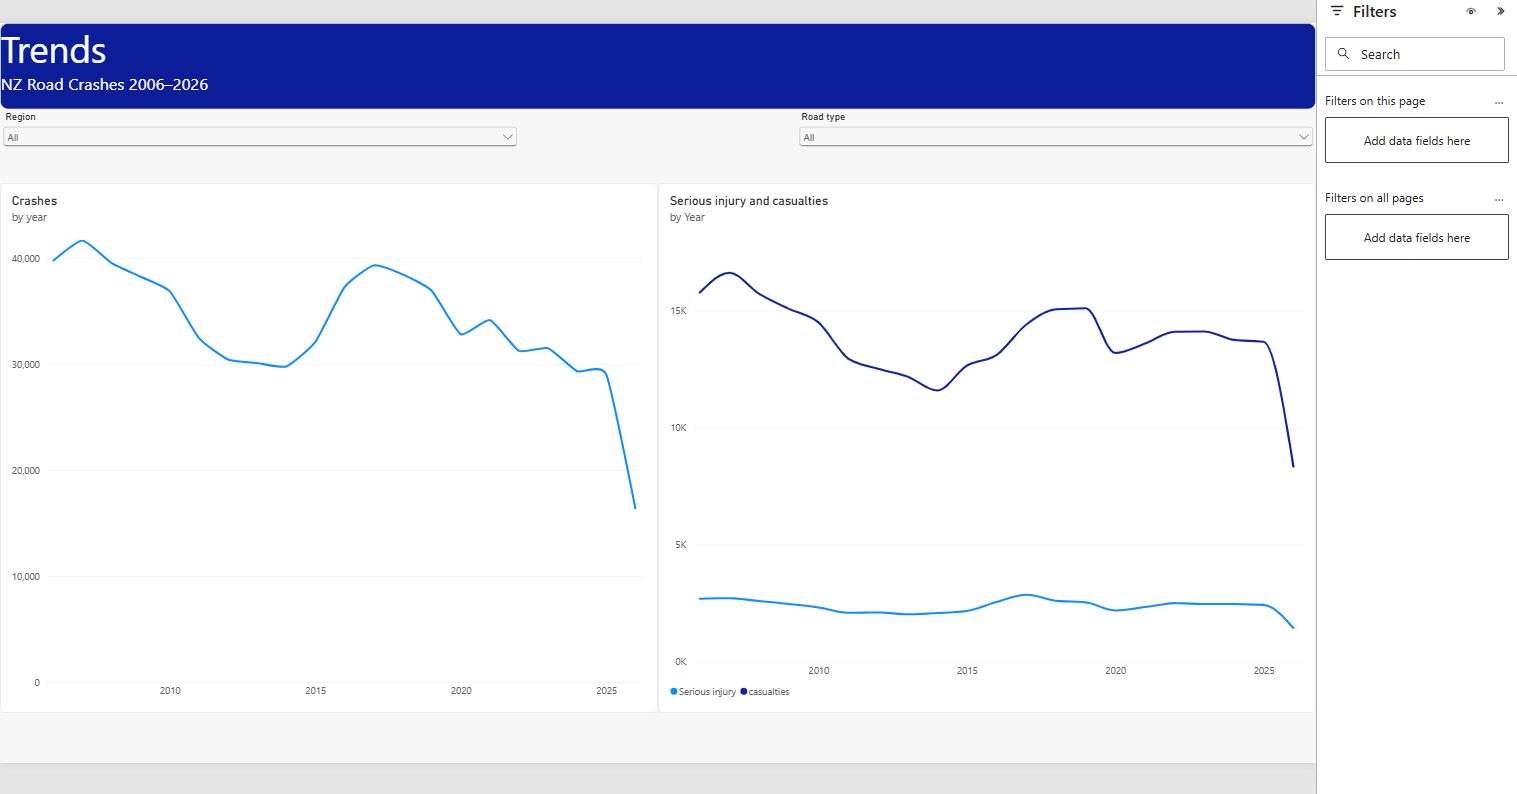

The page's visual inventory and layout, read from the dashboard file:
{"tool":"powerbi","page":{"name":"Trends","canvas":[1920,1080],"ordinal":1},"visuals":[{"type":"textbox","box":[0,0,1920.4,125.6],"z":0},{"type":"slicer","fields":{"Values":["dbt fct_nz_traffic_crash.region"]},"box":[0,128.4,758.7,52.5],"z":1000},{"type":"slicer","fields":{"Values":["dbt fct_nz_traffic_crash.road_type"]},"box":[1161.3,128.4,758.8,105],"z":2000},{"type":"lineChart","fields":{"Category":["dbt fct_nz_traffic_crash.crash_year"],"Y":["Count(dbt fct_nz_traffic_crash.crash_id)"]},"box":[0,233.4,960,773.3],"z":3000},{"type":"lineChart","fields":{"Category":["dbt fct_nz_traffic_crash.crash_year"],"Y":["Sum(dbt fct_nz_traffic_crash.serious_injury_count)","Sum(dbt fct_nz_traffic_crash.total_casualties)"]},"box":[960,233.4,960,773.3],"z":4000}]}

Visuals, with their boxes on the page's 1920x1080 design canvas (x1, y1, x2, y2). These are canvas units, not pixel positions in the 1517x794 screenshot, which may show the page scaled, cropped or inside an application window:
textbox: 0:0:1920:126
slicer - dbt fct_nz_traffic_crash.region: 0:128:759:181
slicer - dbt fct_nz_traffic_crash.road_type: 1161:128:1920:233
lineChart - dbt fct_nz_traffic_crash.crash_year x Count(dbt fct_nz_traffic_crash.crash_id): 0:233:960:1007
lineChart - dbt fct_nz_traffic_crash.crash_year x Sum(dbt fct_nz_traffic_crash.serious_injury_count): 960:233:1920:1007
